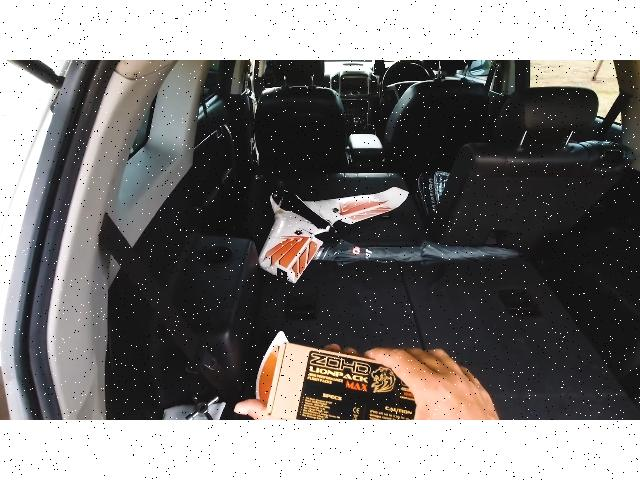Anti-Drone: (245, 160, 437, 292)
